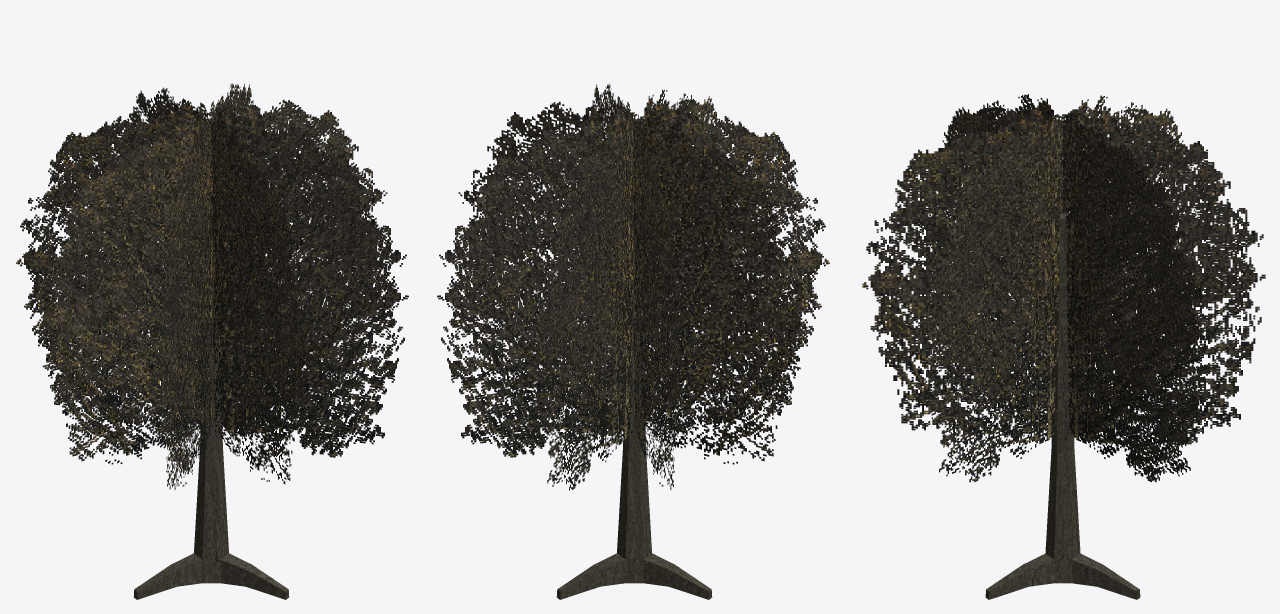
The model's file is tree06_winter.glb.
3 views of the same model, side by side, from view 1: azimuth 30°, elevation 25°; view 2: azimuth 150°, elevation 25°; view 3: azimuth 270°, elevation 25° (orthographic).
Visible parts, largest first — view 1: tree06; view 2: tree06; view 3: tree06.
Part boxes in pixels (x1,y1,x2,y2): tree06: [16, 83, 408, 599]; tree06: [437, 84, 829, 599]; tree06: [862, 94, 1265, 599].
Size of the model in its own units: 6.32 by 8.26 by 6.32.
1 material, 1 textured.
